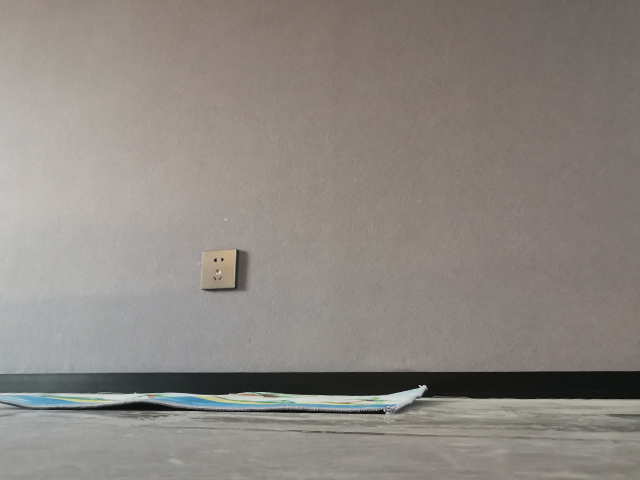carpet: (1, 383, 431, 419)
